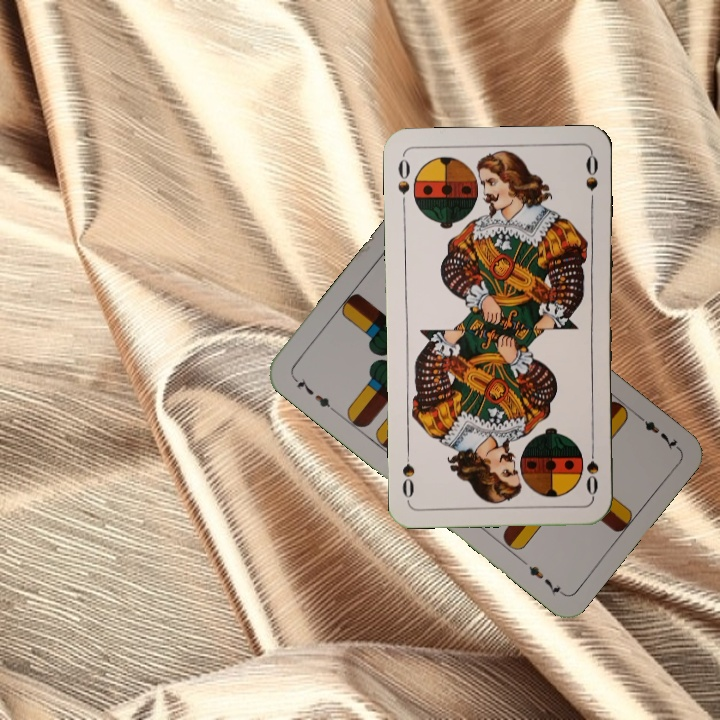E7: (632, 410, 681, 452), (288, 374, 338, 415)
SO: (582, 440, 602, 499), (393, 155, 413, 197)
